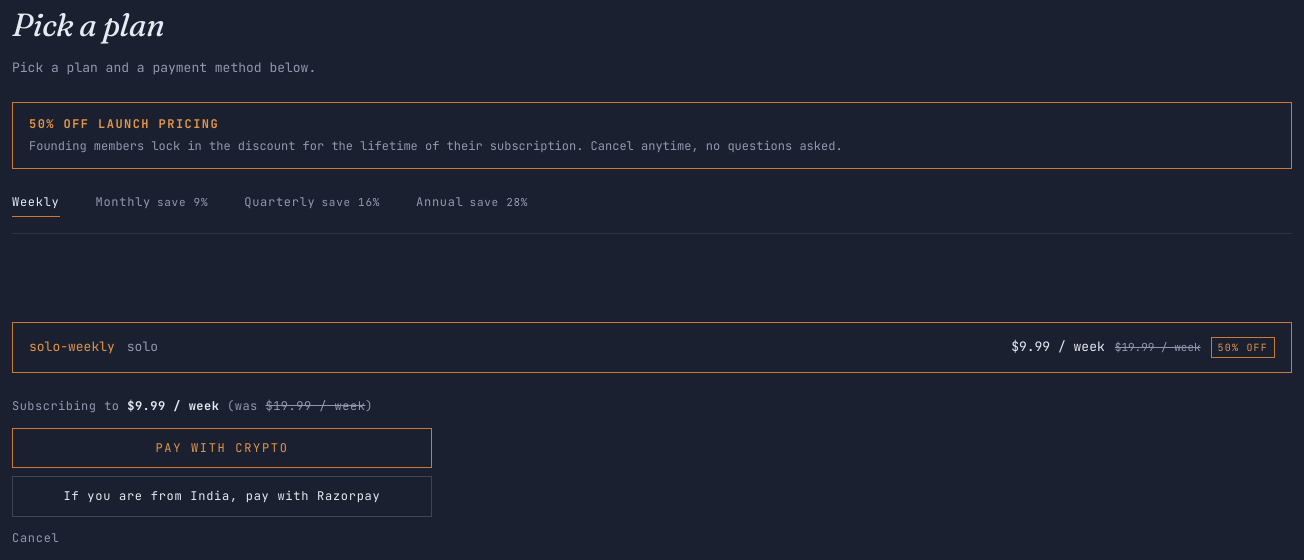
BillingUpgrade › alt-payment buttons (NOWPayments + Razorpay) › hides the alt-payment buttons when cadence is quarterly (not visible_in_pricing)
Check: the element with test id "alt-payment-buttons" is shown, box [12, 428, 432, 517]
Step 1. Click the tab "Quarterly" → (312, 205), box [244, 193, 380, 216]
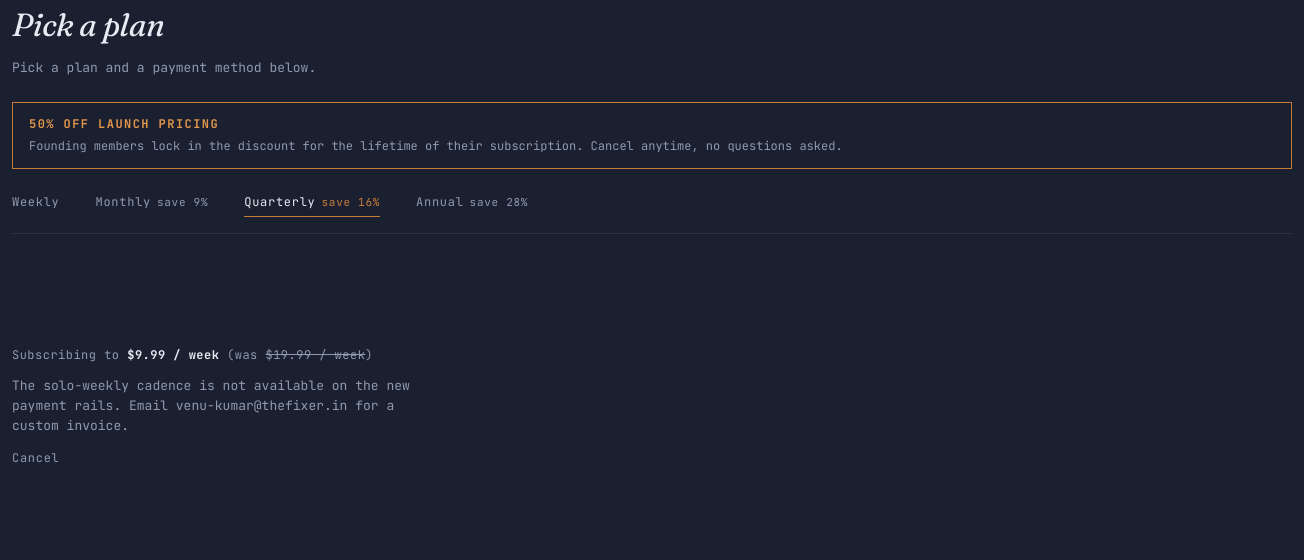
Check: the element with test id "alt-payment-buttons" is gone
